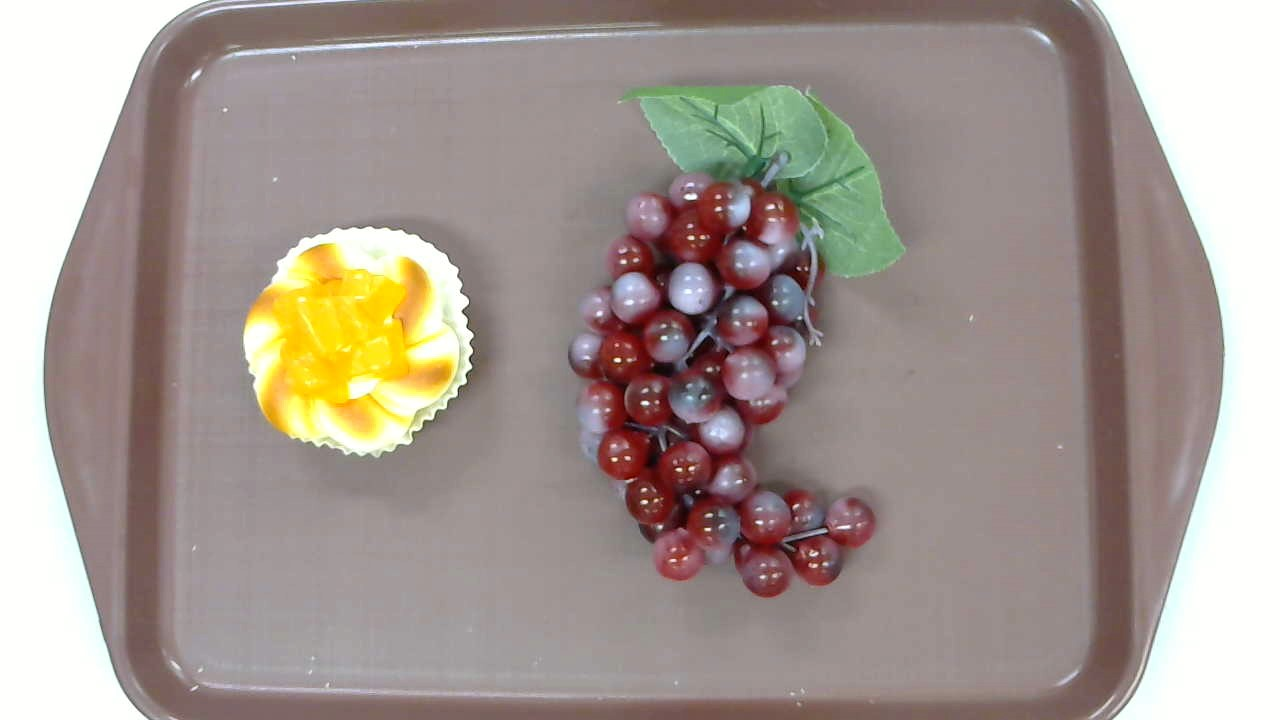grape: (567, 84, 907, 597)
mango tart: (243, 224, 476, 460)
